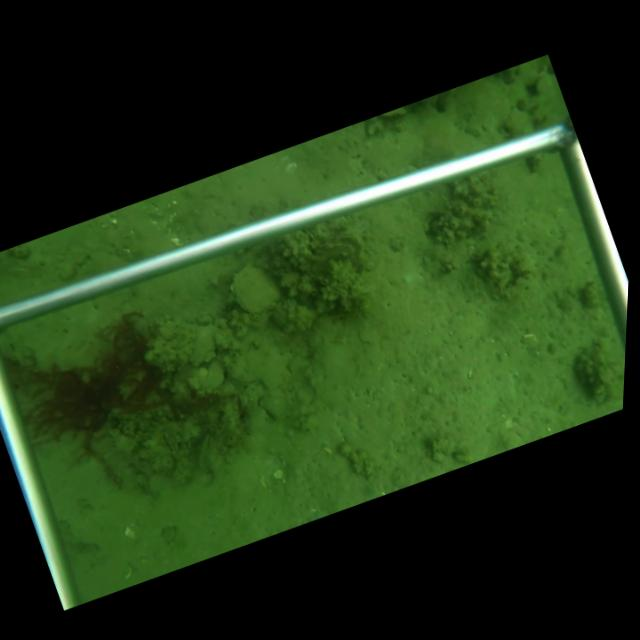Oyster-Closed: (227, 262, 284, 314), (225, 366, 263, 387), (159, 430, 183, 463)
